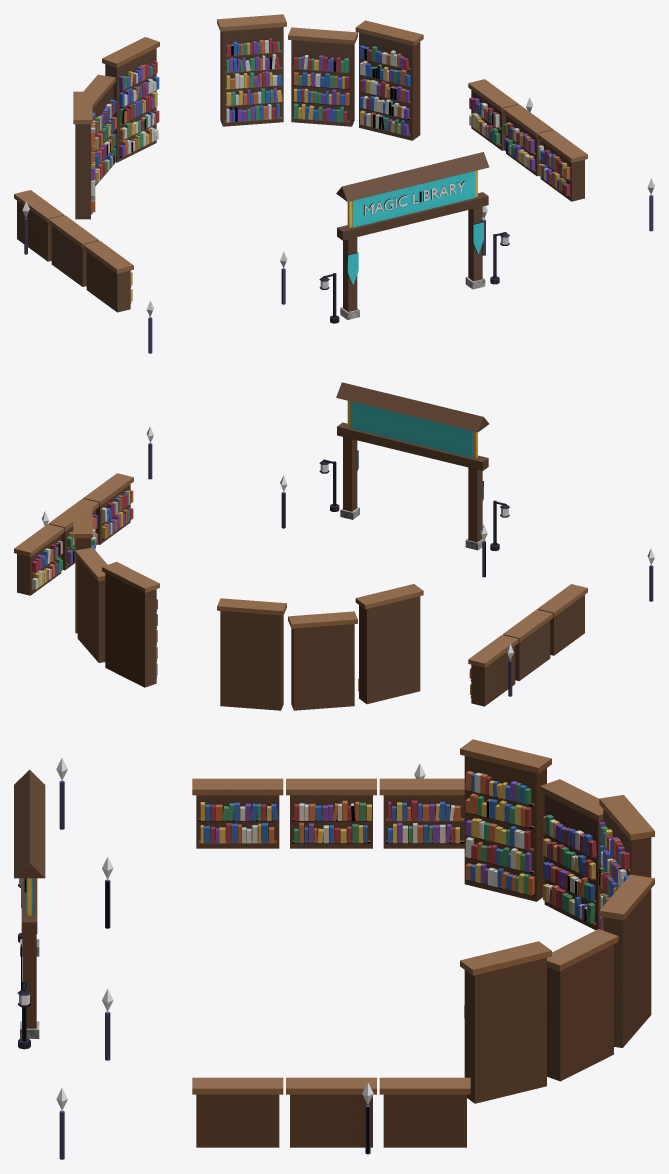
Rendered from area_library_2_5.fbx.
3 renders of one model, top to bottom at view 1: azimuth 30°, elevation 25°; view 2: azimuth 150°, elevation 25°; view 3: azimuth 270°, elevation 25°, orthographic. The views are drawn at different scales.
Parts seen in each view (by area): view 1: area_library_2_5_body; view 2: area_library_2_5_body; view 3: area_library_2_5_body, area_library_2_5_body2_glow.
Boxes of the visible parts, <box> form: area_library_2_5_body: <box>14,14,653,353</box>; area_library_2_5_body: <box>14,382,653,710</box>; area_library_2_5_body: <box>14,739,654,1159</box>; area_library_2_5_body2_glow: <box>56,757,425,1110</box>.
Size of the model in its own units: 15225 by 3763 by 12315.
2 materials, 1 textured.
